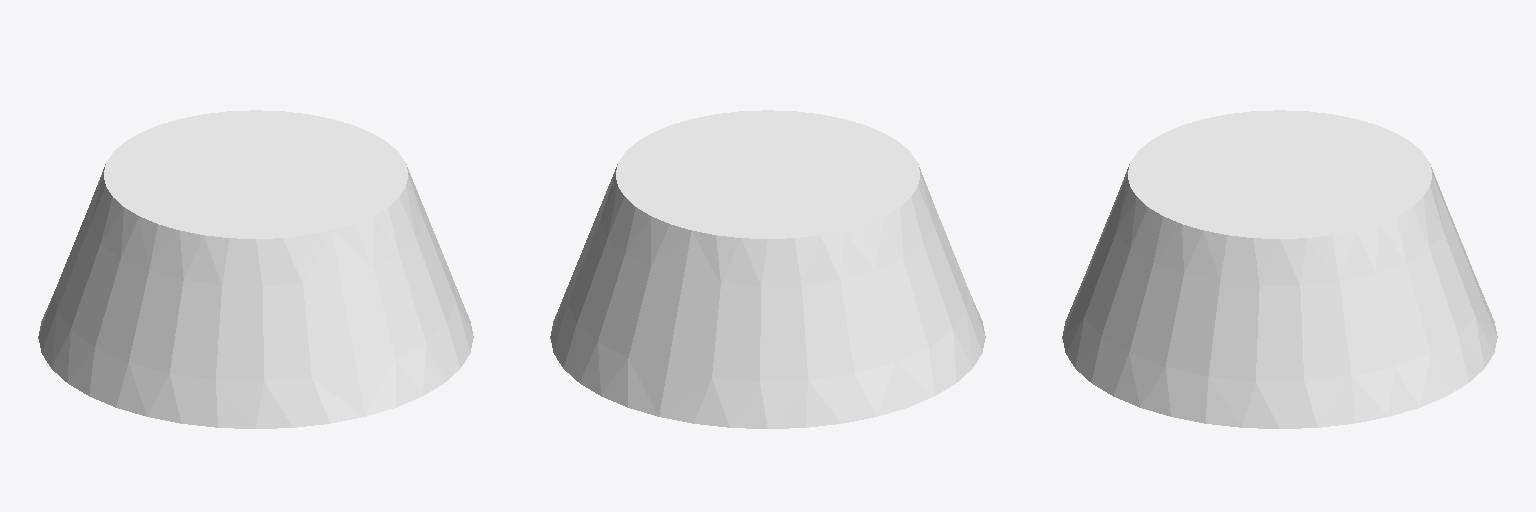
File: kogeto-p2.obj
3 views of the same model, side by side, from view 1: azimuth 30°, elevation 25°; view 2: azimuth 150°, elevation 25°; view 3: azimuth 270°, elevation 25° (orthographic).
Parts seen in each view (by area): view 1: kogeto-p2; view 2: kogeto-p2; view 3: kogeto-p2.
Boxes of the visible parts, box(x1,y1,x2,y2) form: kogeto-p2: box(38, 110, 473, 428); kogeto-p2: box(550, 110, 985, 428); kogeto-p2: box(1062, 110, 1497, 428).
Bounding box in the file's own units: 0.034 × 0.014 × 0.034.